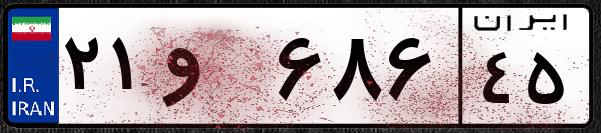1: (110, 28, 158, 98)
2: (57, 26, 110, 100)
4: (475, 38, 525, 113)
5: (525, 38, 570, 115)
6: (270, 28, 330, 110), (385, 28, 445, 110)
8: (330, 28, 385, 110)
و: (158, 20, 270, 120)
